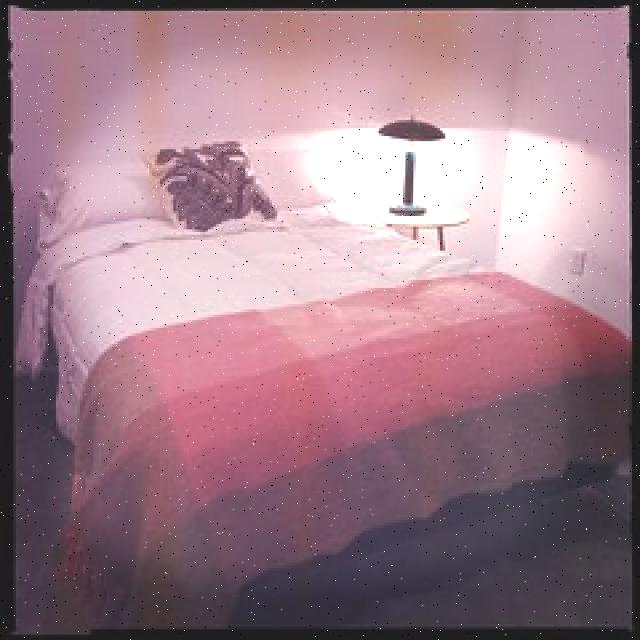bed: (52, 152, 597, 554)
